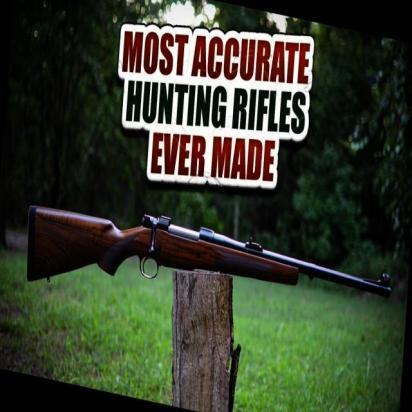Gun: (14, 183, 398, 360)
